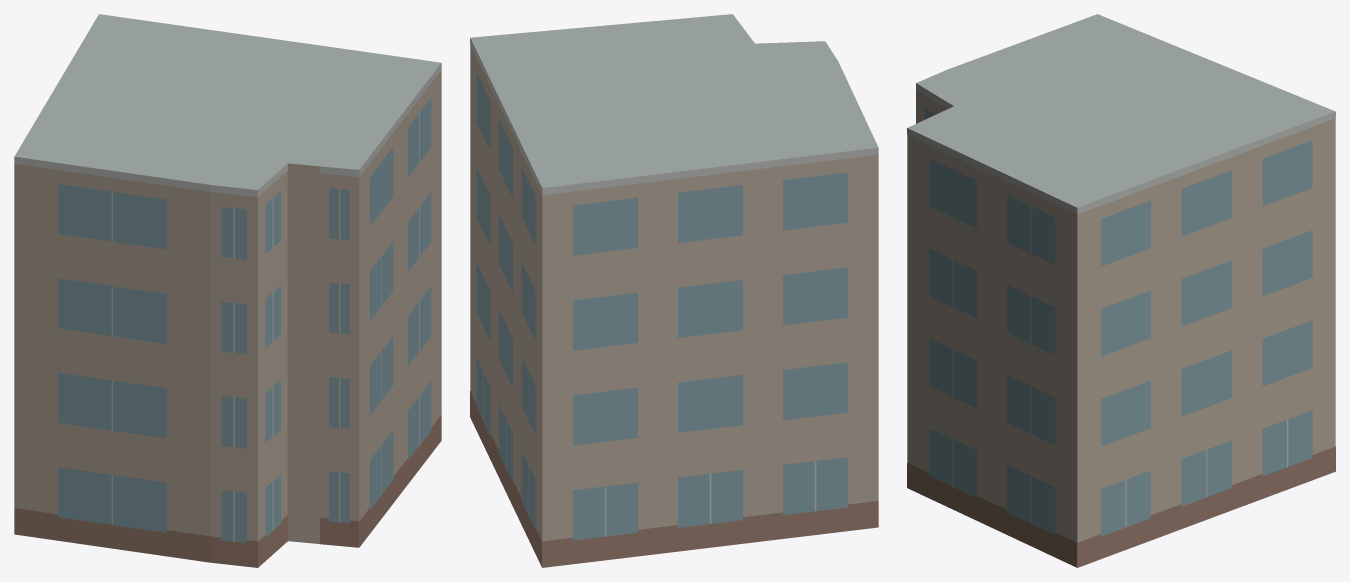
The model's file is survey-upis-32856439.glb.
The picture shows the model from 3 angles, left to right: view 1: azimuth 30°, elevation 25°; view 2: azimuth 150°, elevation 25°; view 3: azimuth 270°, elevation 25°; orthographic projection. The views are drawn at different scales.
Parts seen in each view (by area): view 1: survey-upis-32856439.tmp; view 2: survey-upis-32856439.tmp; view 3: survey-upis-32856439.tmp.
Boxes of the visible parts, x1=… form: survey-upis-32856439.tmp: x1=14, y1=14, x2=441, y2=567; survey-upis-32856439.tmp: x1=470, y1=14, x2=878, y2=567; survey-upis-32856439.tmp: x1=907, y1=14, x2=1335, y2=567.
Size of the model in its own units: 15.13 by 13.1 by 14.14.
